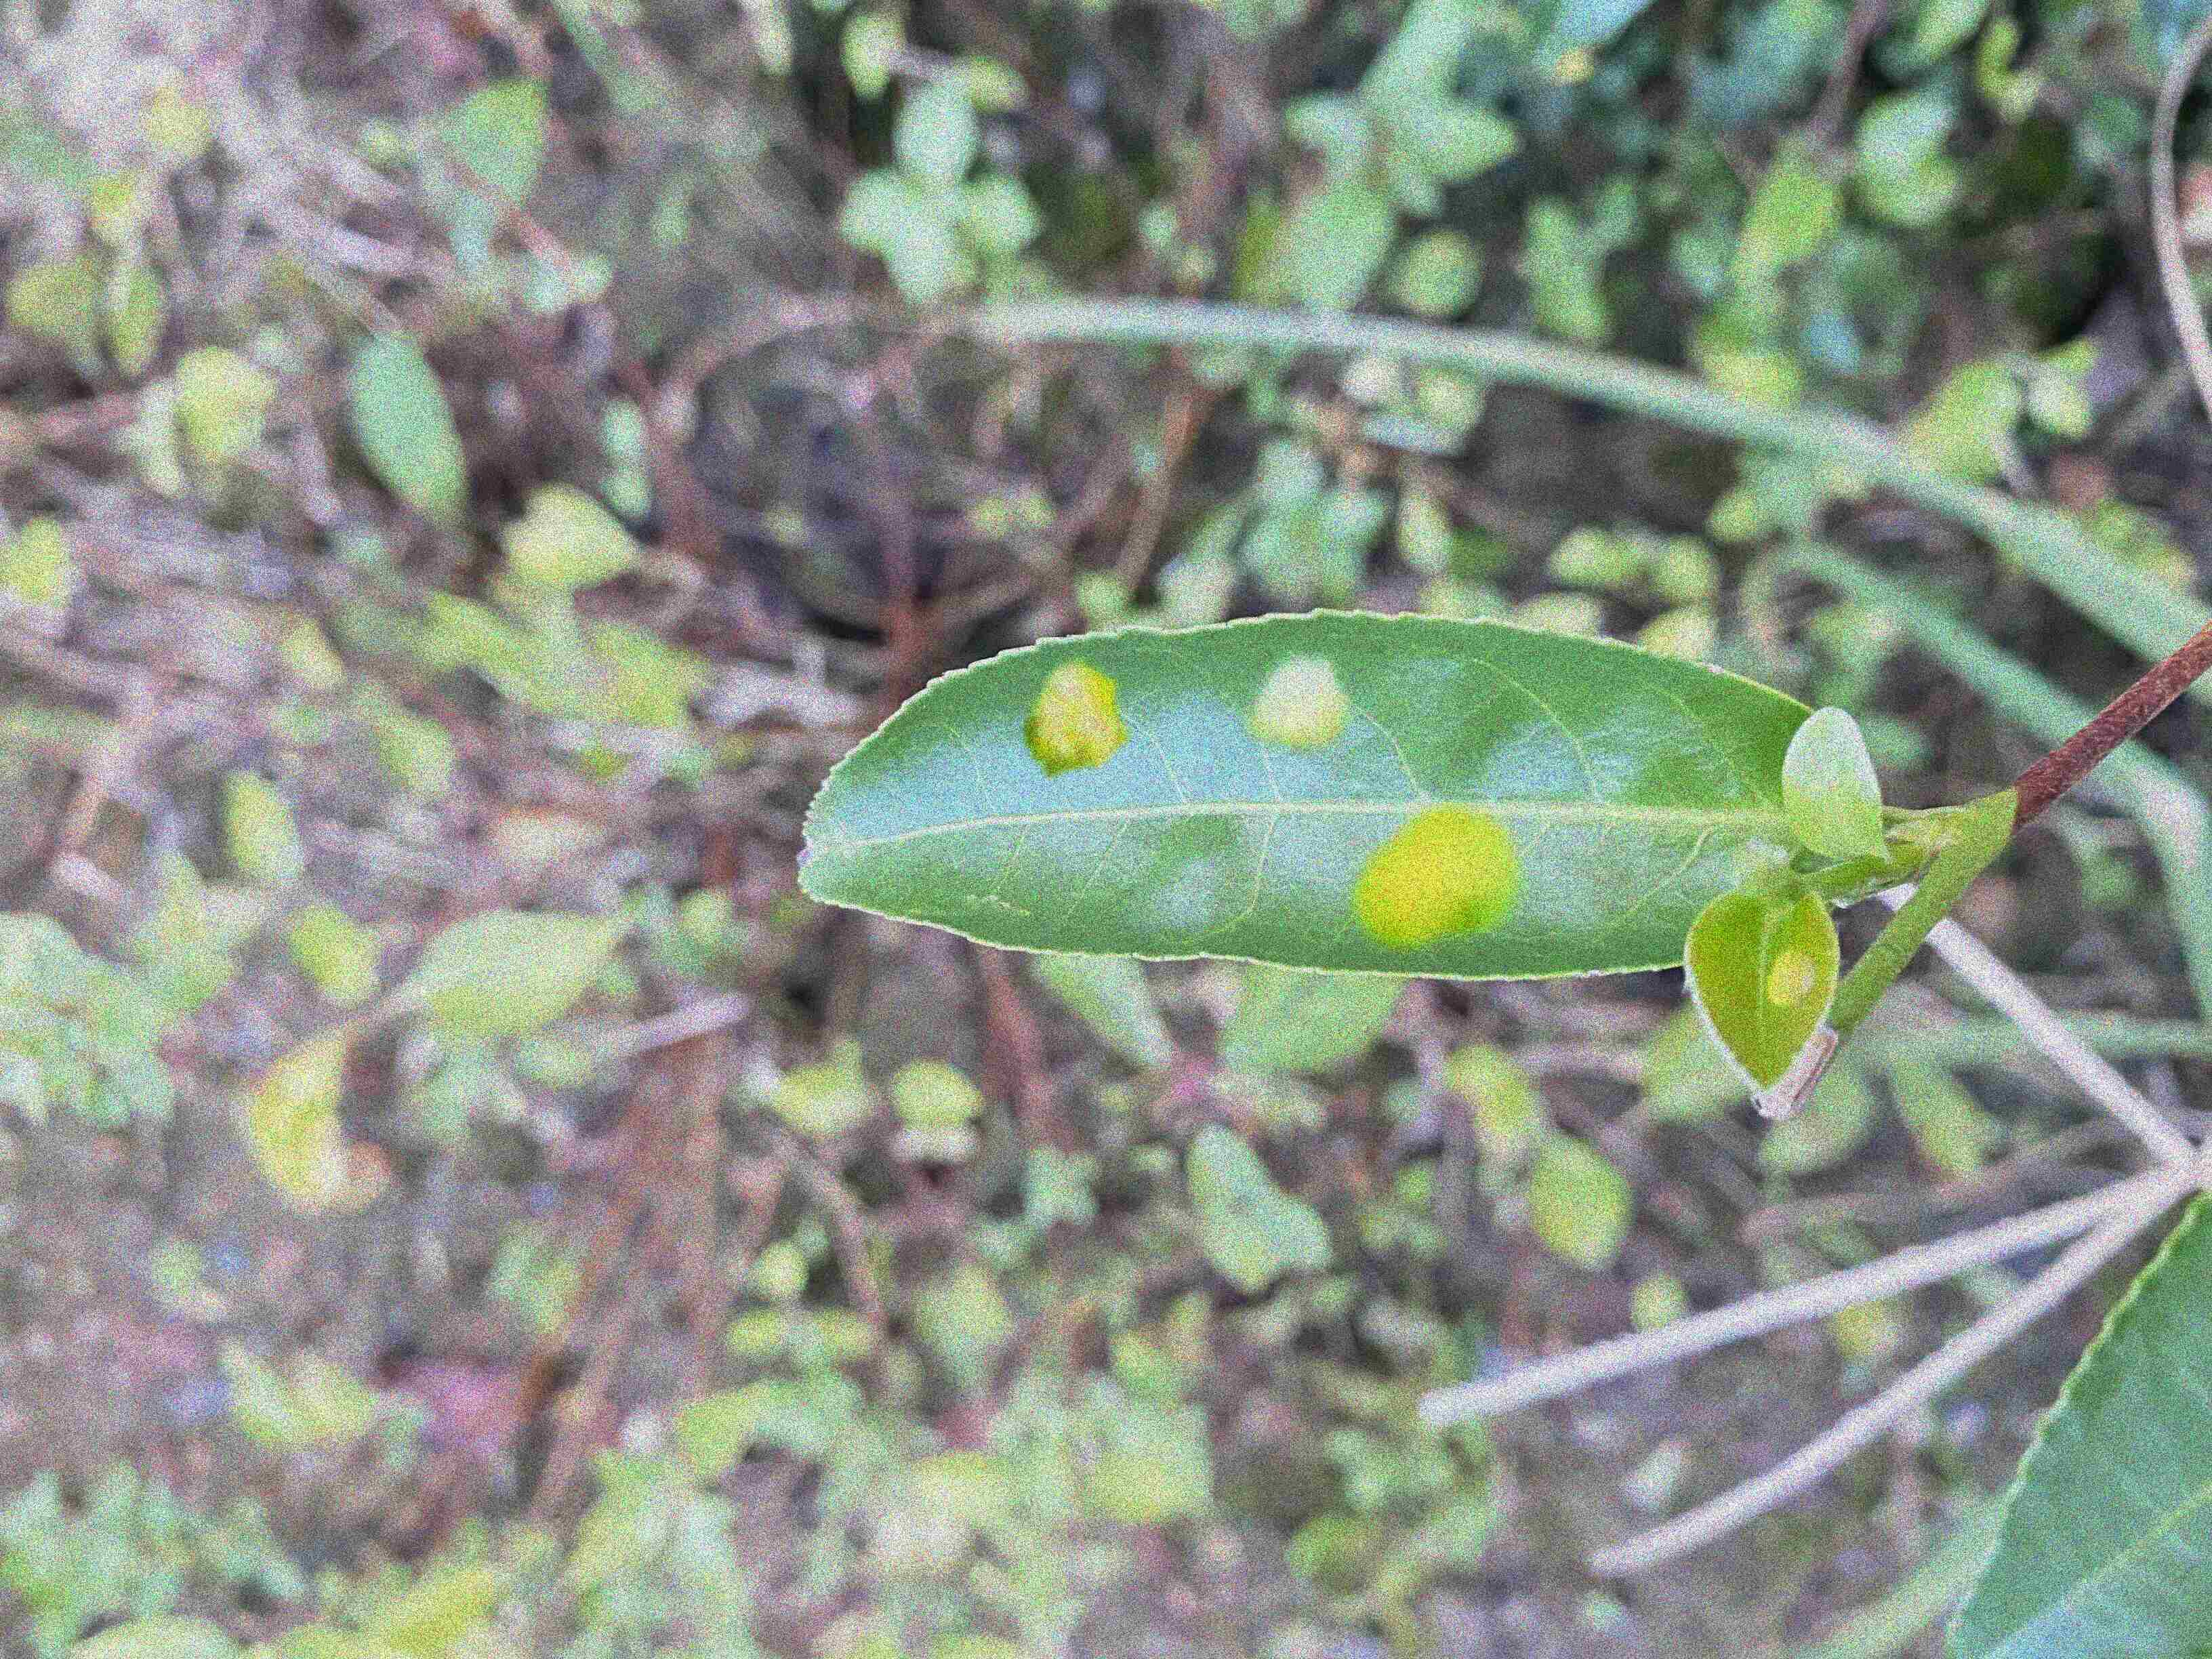chabing_high: (792, 603, 1834, 981)
chabing_low: (1686, 889, 1843, 1091)
healthy: (1784, 709, 1895, 864)
